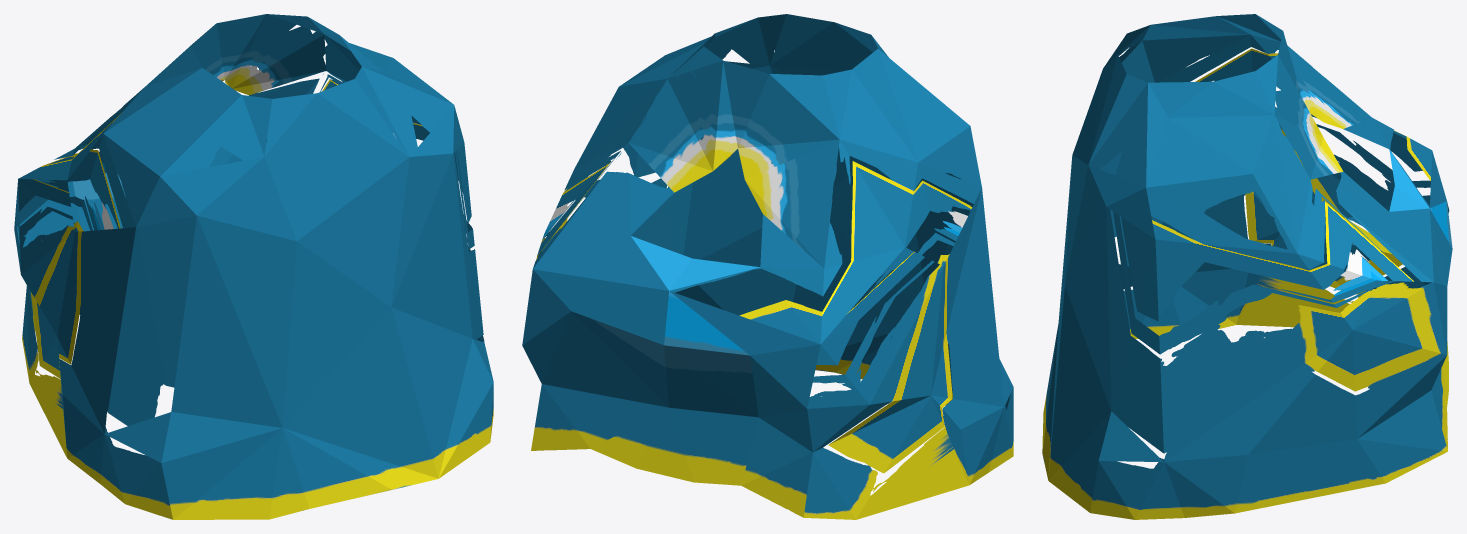
Rendered from UpperClothes.obj.
3 renders of one model, left to right at view 1: azimuth 30°, elevation 25°; view 2: azimuth 150°, elevation 25°; view 3: azimuth 270°, elevation 25°, orthographic. The views are drawn at different scales.
Parts seen in each view (by area): view 1: 上着; view 2: 上着; view 3: 上着.
Boxes of the visible parts, box(x1,y1,x2,y2) form: 上着: box(14, 14, 493, 519); 上着: box(522, 14, 1013, 519); 上着: box(1042, 14, 1452, 519).
Size of the model in its own units: 0.3208 by 0.3167 by 0.2954.
1 material, 1 textured.
